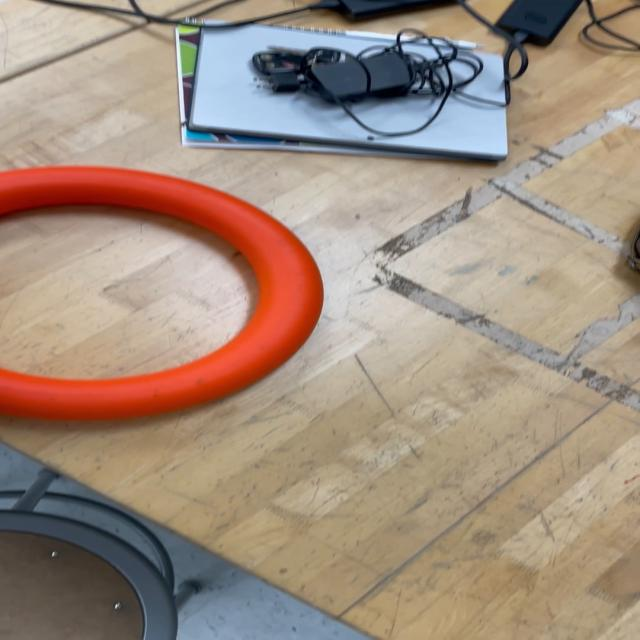note: (0, 163, 326, 426)
